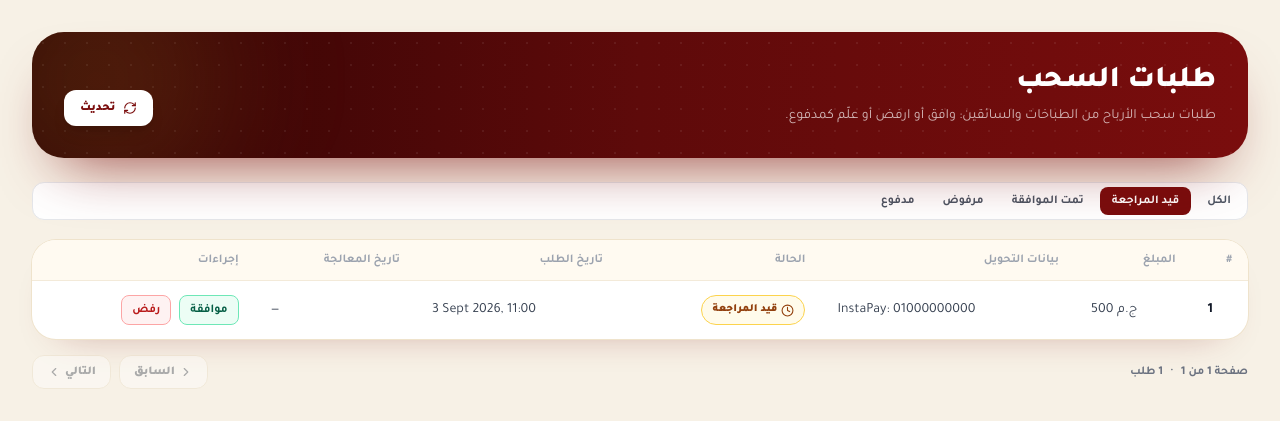
it: US4 — mark an approved withdrawal as paid › Mark Paid shows only on approved rows
Expected: the text "1" is shown, [1192,280,1248,339]
Click the button "تمت الموافقة" at (1048, 201), box [1000,187,1096,215]
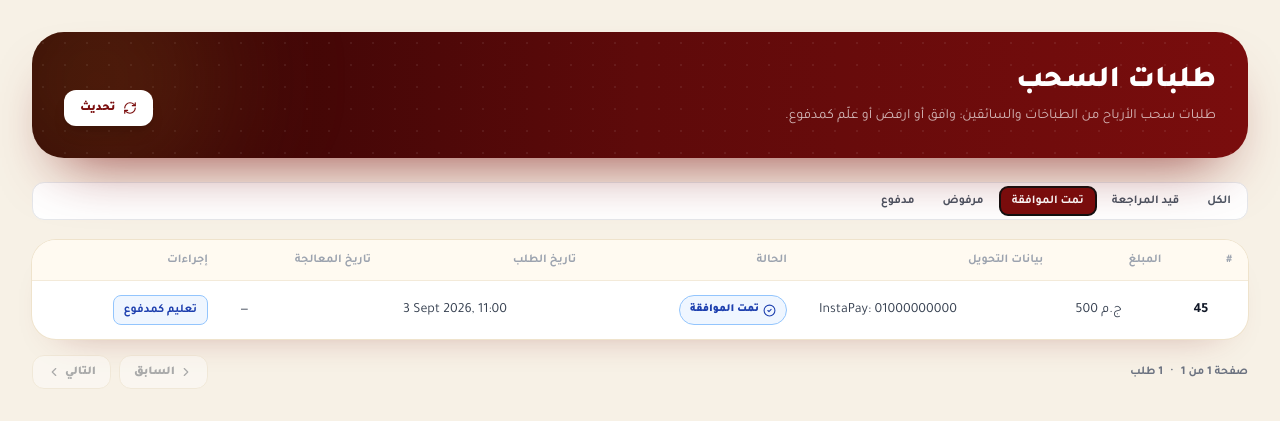
Now the text "45" is shown, box [1177,280,1248,339]
Now the button "تعليم كمدفوع" is shown, box [113,295,208,325]
